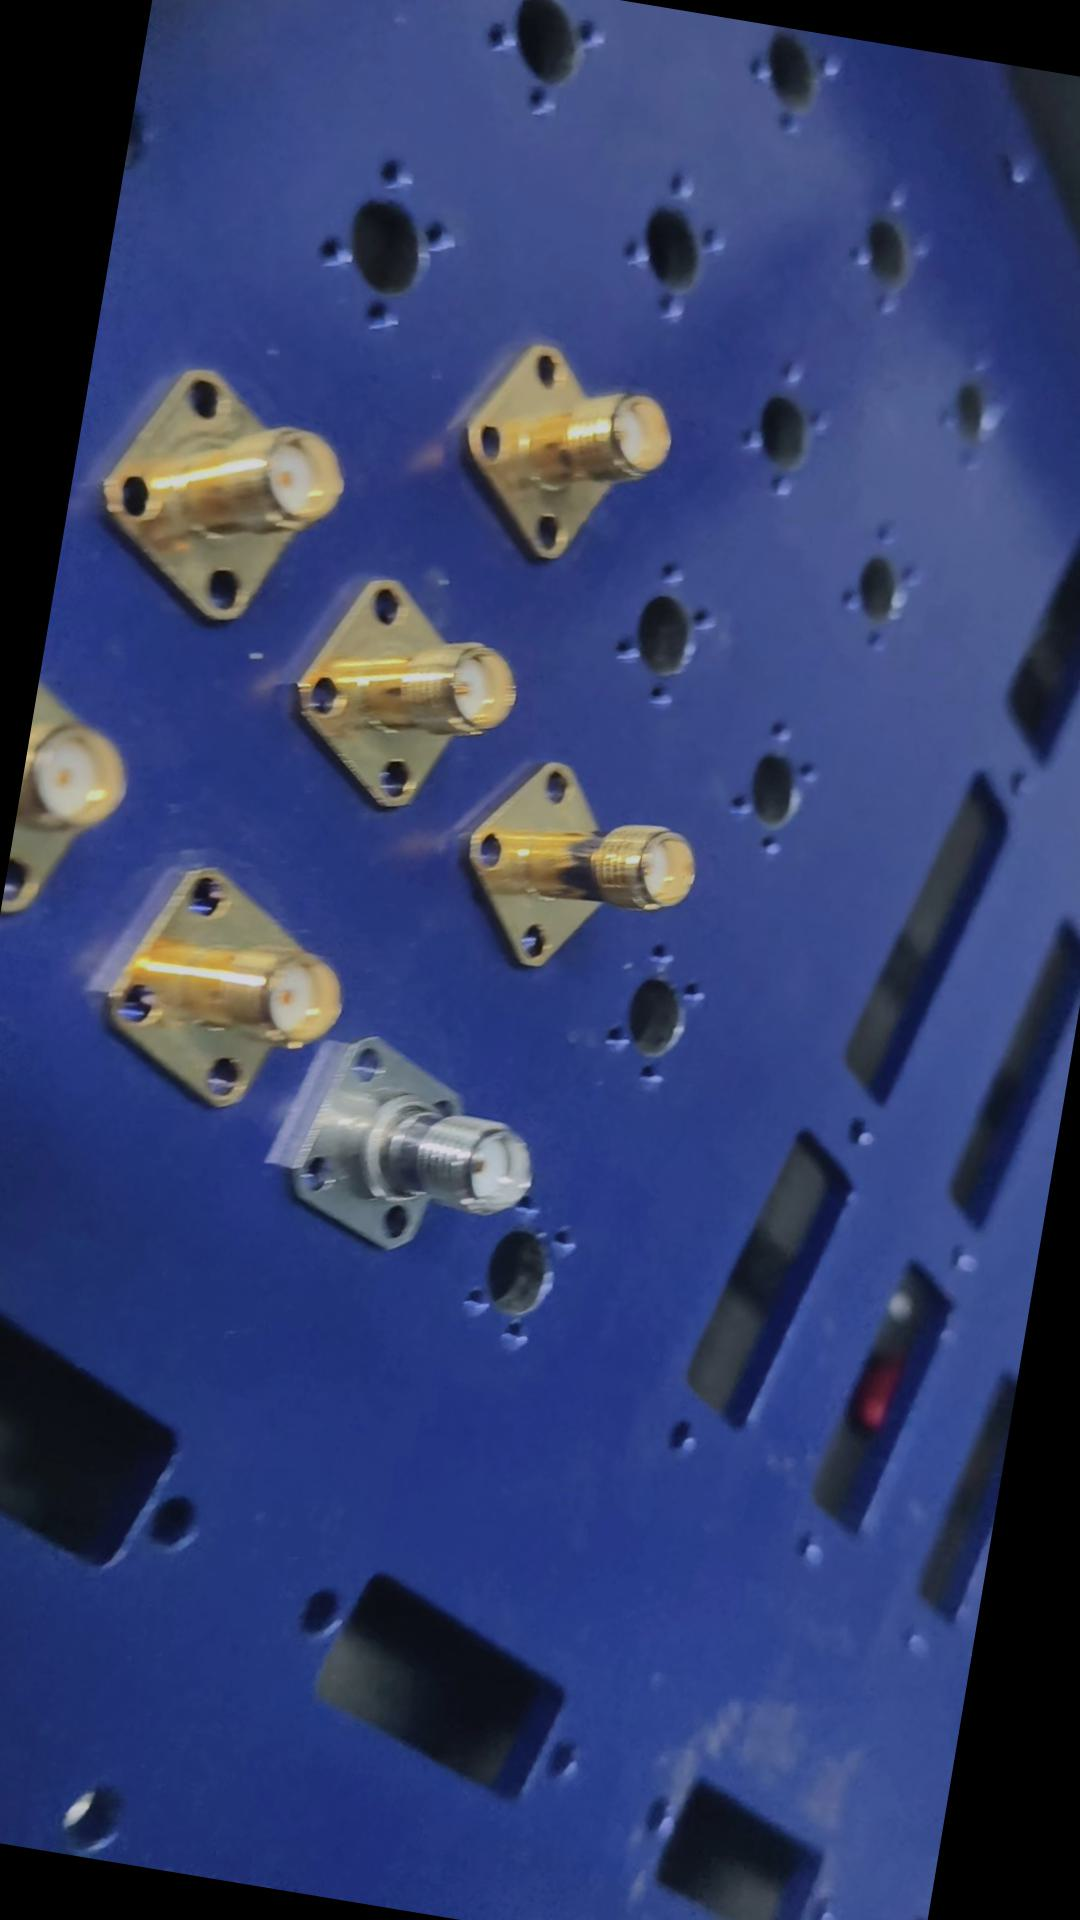SMA: (88, 352, 371, 644), (266, 998, 558, 1273), (99, 851, 371, 1143), (454, 715, 713, 996), (444, 310, 692, 582), (284, 564, 533, 828)
